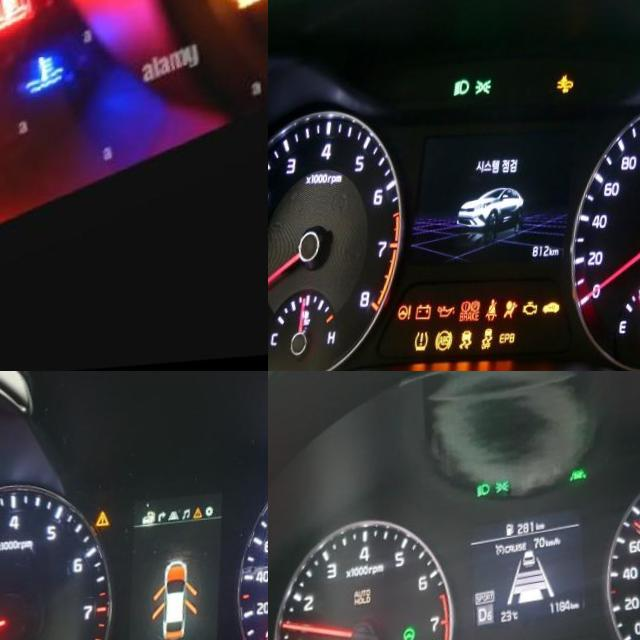Central Warning lamp: (101, 508, 116, 528)
Engine cooling system: (28, 54, 83, 106), (0, 0, 44, 40)
Low beam: (456, 78, 475, 99), (480, 483, 497, 499)
SideLamp: (478, 79, 497, 97), (499, 480, 515, 495)
